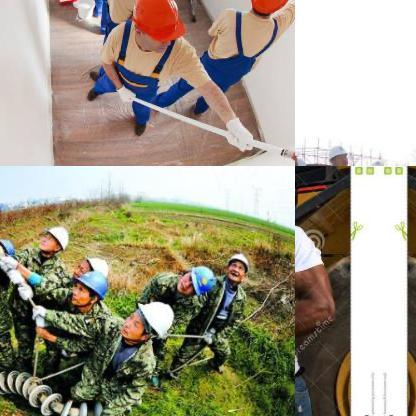Helmet: (128, 0, 185, 63), (121, 293, 180, 345), (61, 264, 110, 308), (240, 0, 294, 30), (36, 221, 70, 254), (182, 262, 212, 294), (72, 256, 110, 278), (224, 249, 248, 282), (325, 140, 349, 165), (0, 233, 14, 260), (364, 155, 386, 165), (295, 154, 309, 165)
